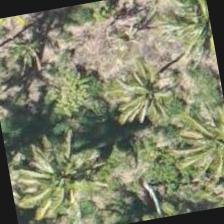Kelapa_Sawit: (96, 42, 201, 146), (14, 134, 119, 223), (176, 91, 223, 189)
